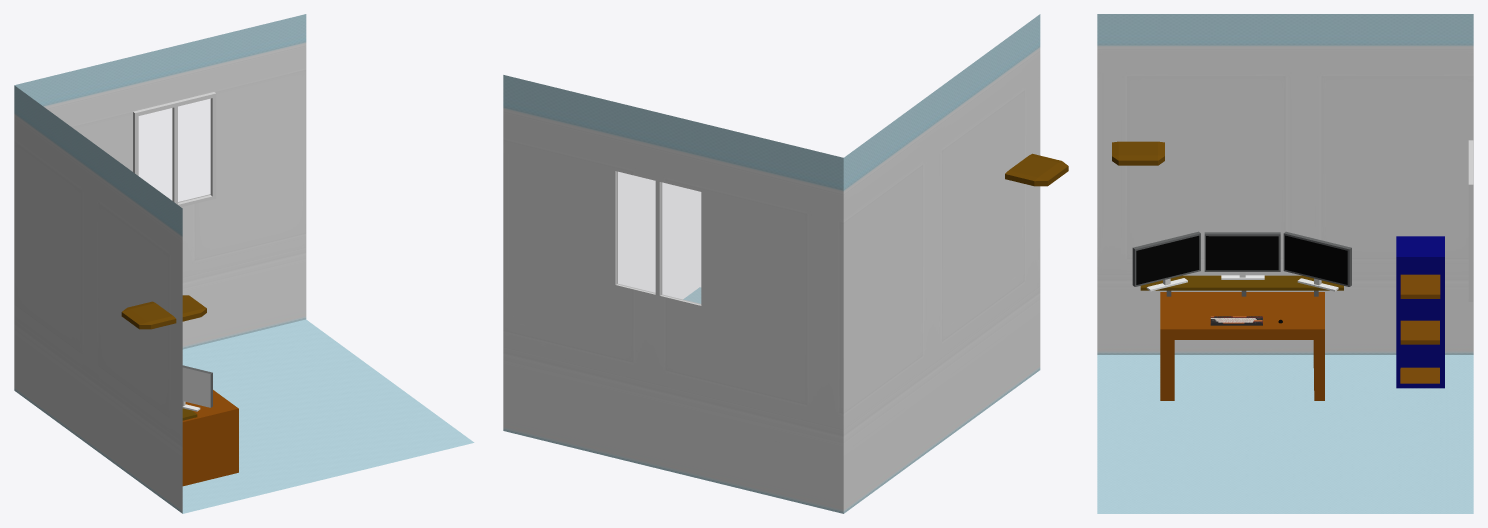
The model's file is NewthreeJsScene.glb.
3 renders of one model, left to right at view 1: azimuth 30°, elevation 25°; view 2: azimuth 150°, elevation 25°; view 3: azimuth 270°, elevation 25°, orthographic. The views are drawn at different scales.
Parts seen in each view (by area): view 1: Cube, Glass, Plane.001, Frame, Cube.001, Monitor 1; view 2: Cube, Glass, Frame, Cube.001; view 3: Cube, Plane.001, Experience and projects.003, Monitor 2, Monitor 3, Monitor 1, Cube.001, Frame, Cube.008.
Part boxes in pixels (x1=…): Cube: x1=14, y1=14, x2=474, y2=513; Glass: x1=139, y1=99, x2=210, y2=202; Plane.001: x1=182, y1=390, x2=238, y2=486; Frame: x1=133, y1=92, x2=216, y2=206; Cube.001: x1=121, y1=295, x2=206, y2=329; Monitor 1: x1=182, y1=365, x2=212, y2=411; Cube: x1=503, y1=14, x2=1040, y2=513; Glass: x1=617, y1=172, x2=700, y2=304; Frame: x1=614, y1=171, x2=701, y2=305; Cube.001: x1=1005, y1=153, x2=1068, y2=186; Cube: x1=1097, y1=14, x2=1473, y2=513; Plane.001: x1=1140, y1=275, x2=1343, y2=400; Experience and projects.003: x1=1396, y1=236, x2=1444, y2=388; Monitor 2: x1=1204, y1=232, x2=1280, y2=279; Monitor 3: x1=1283, y1=231, x2=1351, y2=291; Monitor 1: x1=1132, y1=231, x2=1200, y2=291; Cube.001: x1=1112, y1=141, x2=1164, y2=165; Frame: x1=1468, y1=140, x2=1473, y2=301; Cube.008: x1=1210, y1=316, x2=1262, y2=325.
Size of the model in its own units: 180 by 161 by 161.
4 materials, 3 textured.
